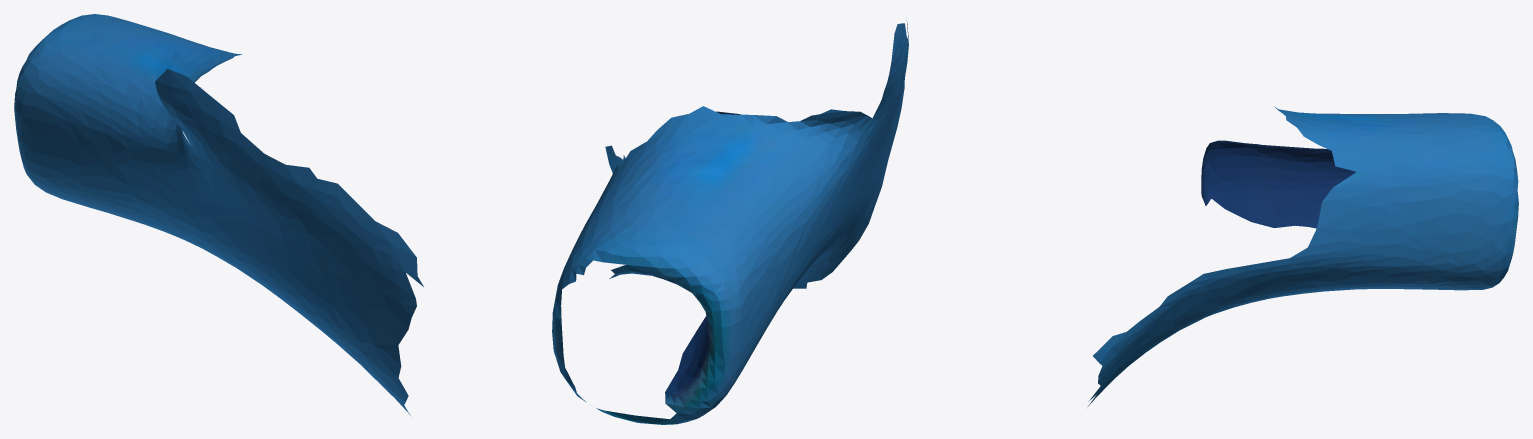
3 renders of one model, left to right at view 1: azimuth 30°, elevation 25°; view 2: azimuth 150°, elevation 25°; view 3: azimuth 270°, elevation 25°, orthographic. The views are drawn at different scales.
Visible parts, largest first — view 1: tripo_mesh_045d8eb0-72ec-4624-9759-a425f321d17a; view 2: tripo_mesh_045d8eb0-72ec-4624-9759-a425f321d17a; view 3: tripo_mesh_045d8eb0-72ec-4624-9759-a425f321d17a.
Part boxes in pixels (box(x1,y1,x2,y2)): tripo_mesh_045d8eb0-72ec-4624-9759-a425f321d17a: box(14, 14, 423, 415); tripo_mesh_045d8eb0-72ec-4624-9759-a425f321d17a: box(552, 20, 908, 424); tripo_mesh_045d8eb0-72ec-4624-9759-a425f321d17a: box(1088, 106, 1518, 406).
Size of the model in its own units: 0.1023 by 0.1068 by 0.1746.
1 material, 1 textured.
